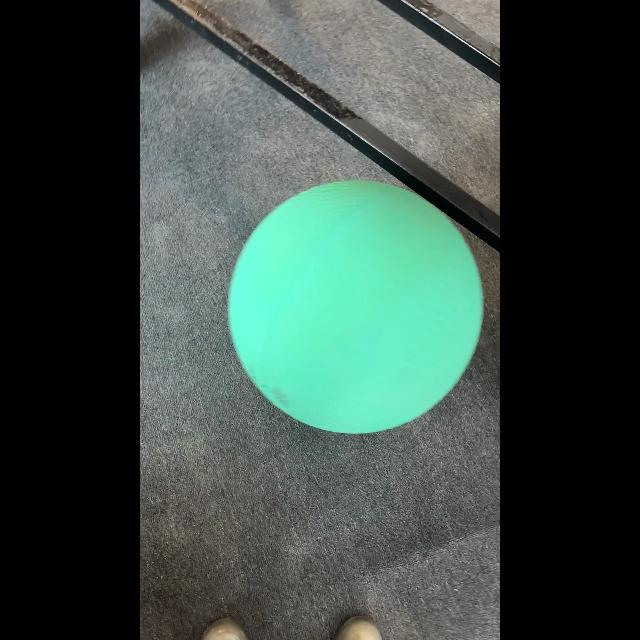ALGAE: (226, 179, 484, 435)
